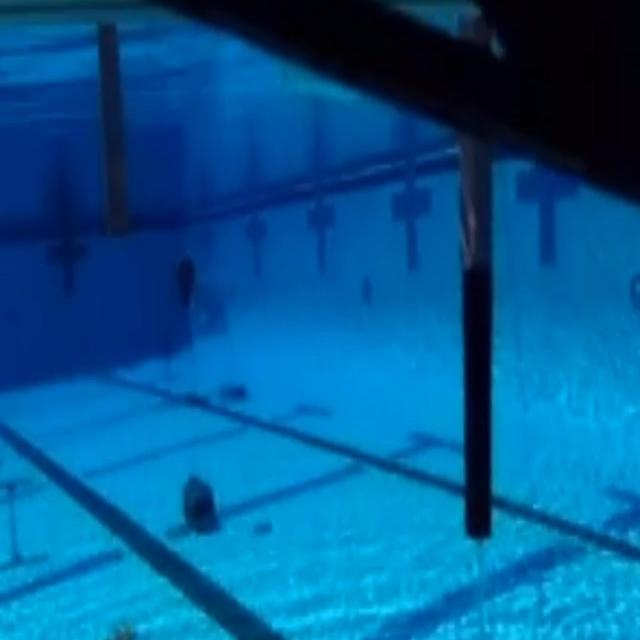Gate: (14, 12, 515, 554)
